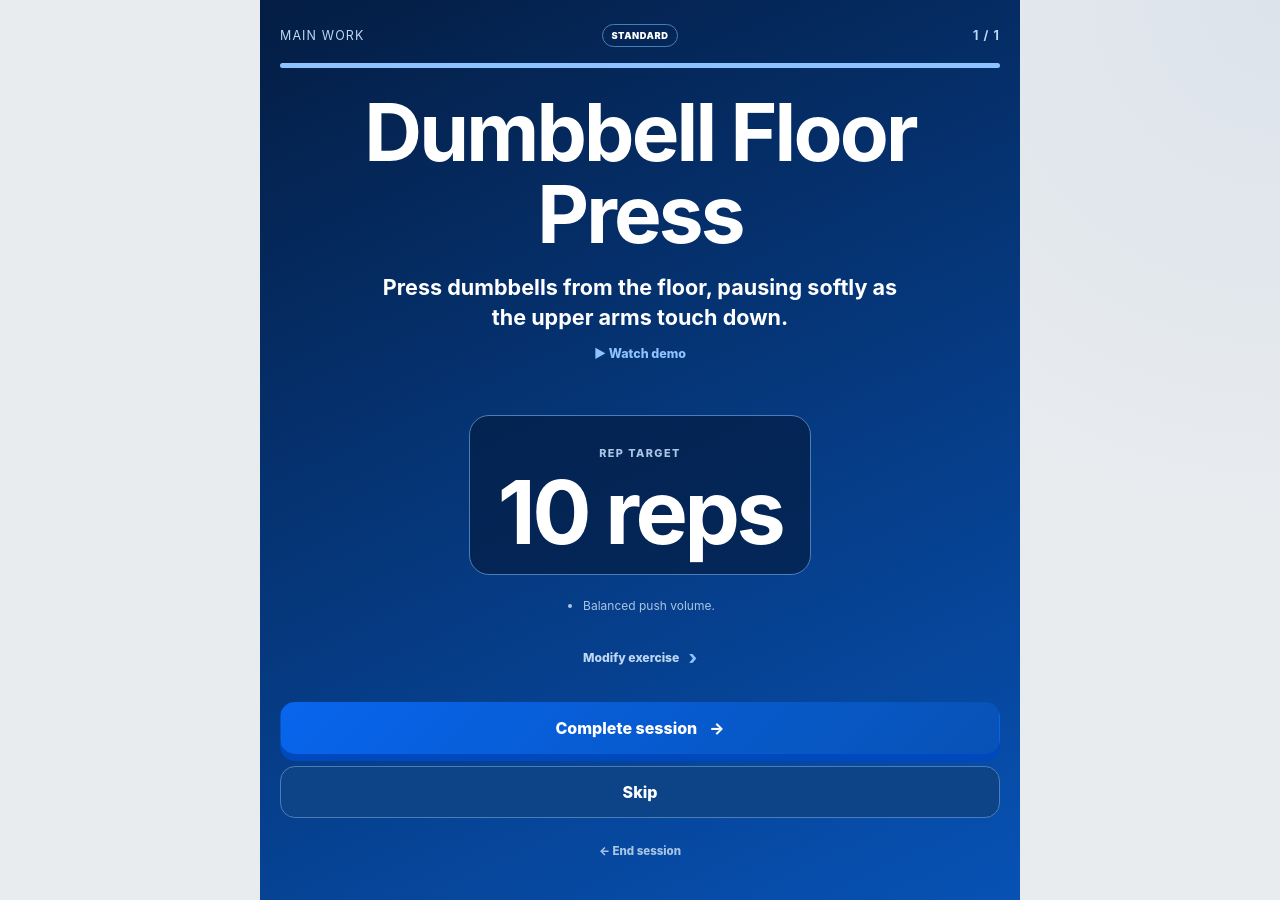
Test: pauses the workout and progressively discloses modification controls
Check: the button "Make easier" is not shown
Click the button "Modify exercise ›".
click(640, 658)  # box [573,636,707,678]
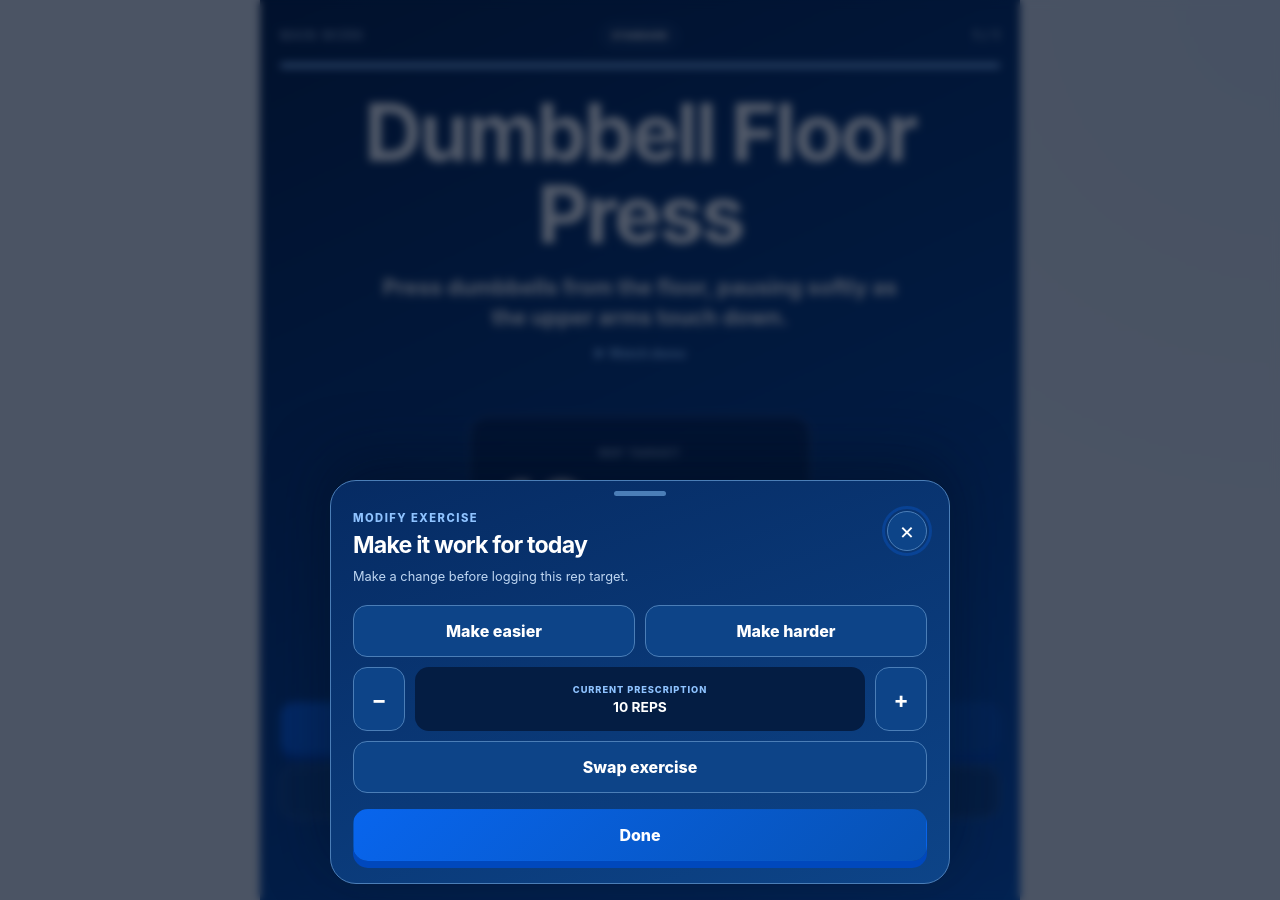
Check: the dialog "Make it work for today" is shown, box [330,480,950,884]
Check: the button "Make easier" is shown, box [353,605,635,657]
Check: the button "Make harder" is shown, box [645,605,927,657]
Click the button named "Increase reps or time".
click(901, 699)  # box [875,667,927,731]
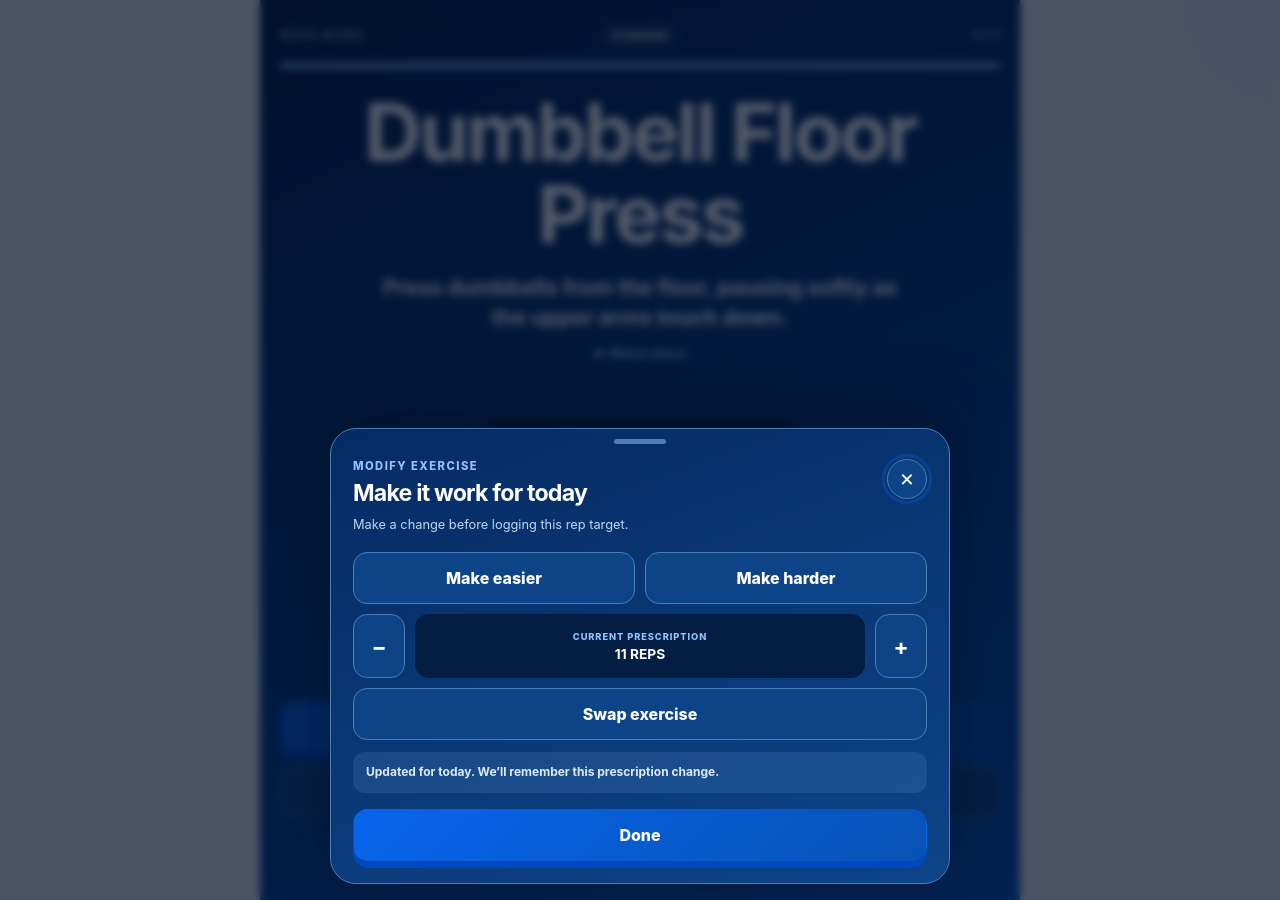
Check: the text "11 reps" is shown 2 times, box [508,468,772,556]; [615,646,665,662]
Check: the message shows "We’ll remember this prescription change.", box [366,764,719,779]
Click the button "Done".
click(640, 835)  # box [353,809,927,861]
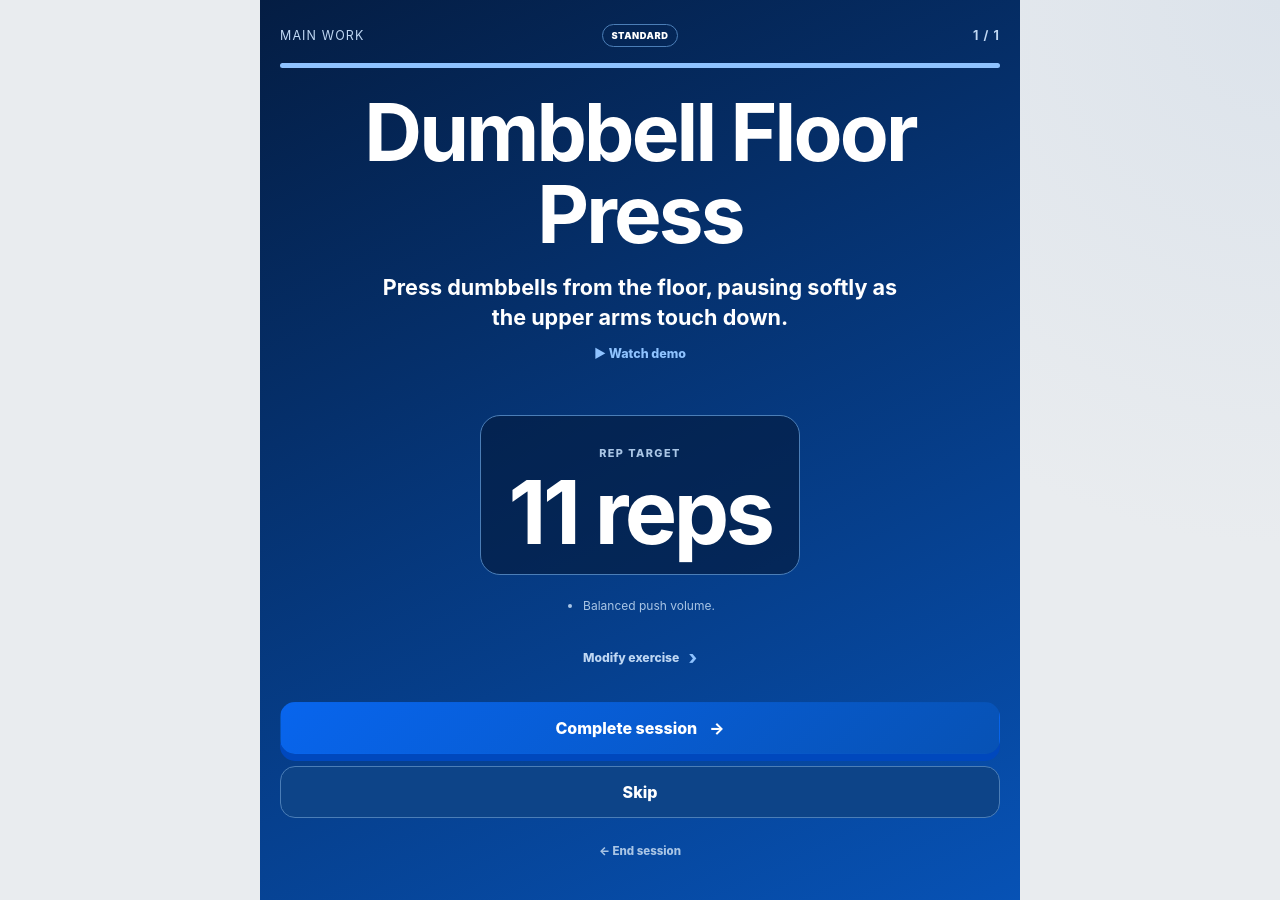
Check: the dialog is gone
